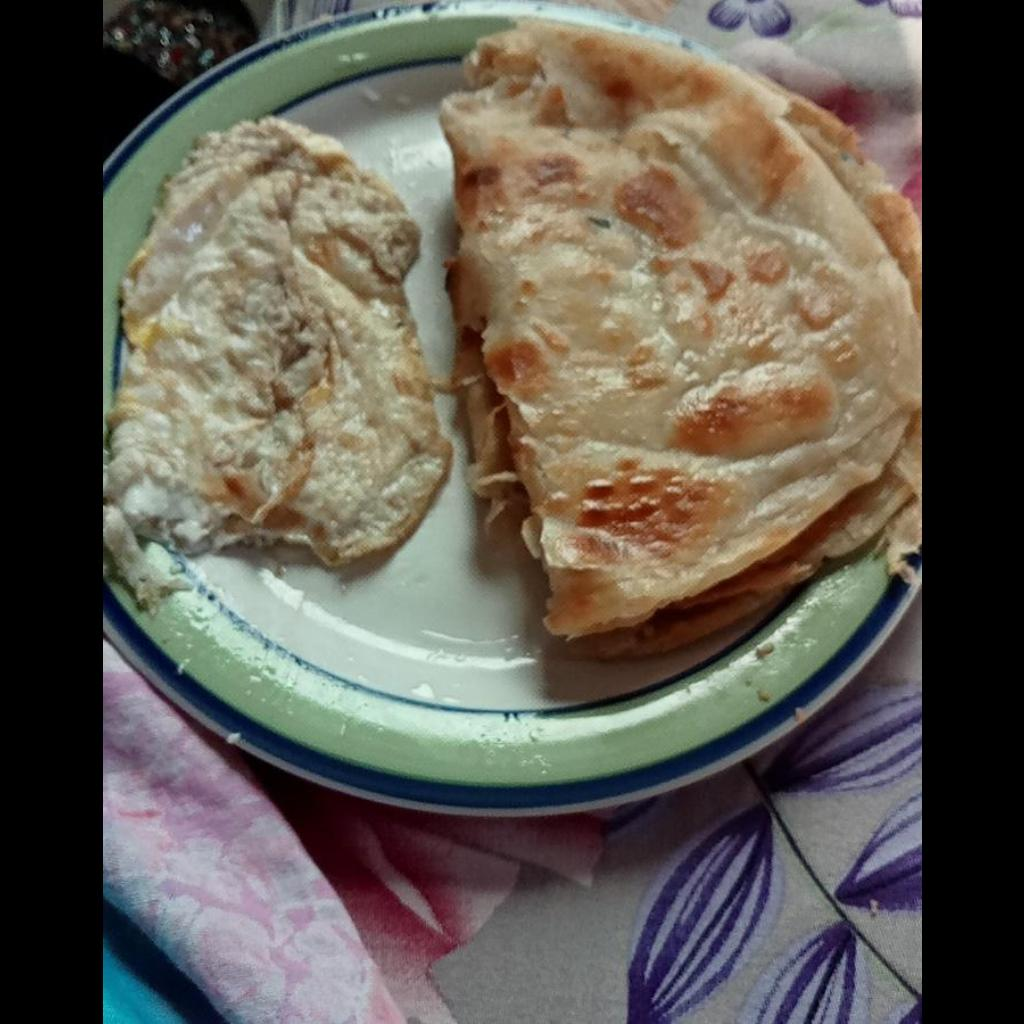egg-poached: (102, 113, 453, 603)
ruti: (441, 11, 920, 663)
